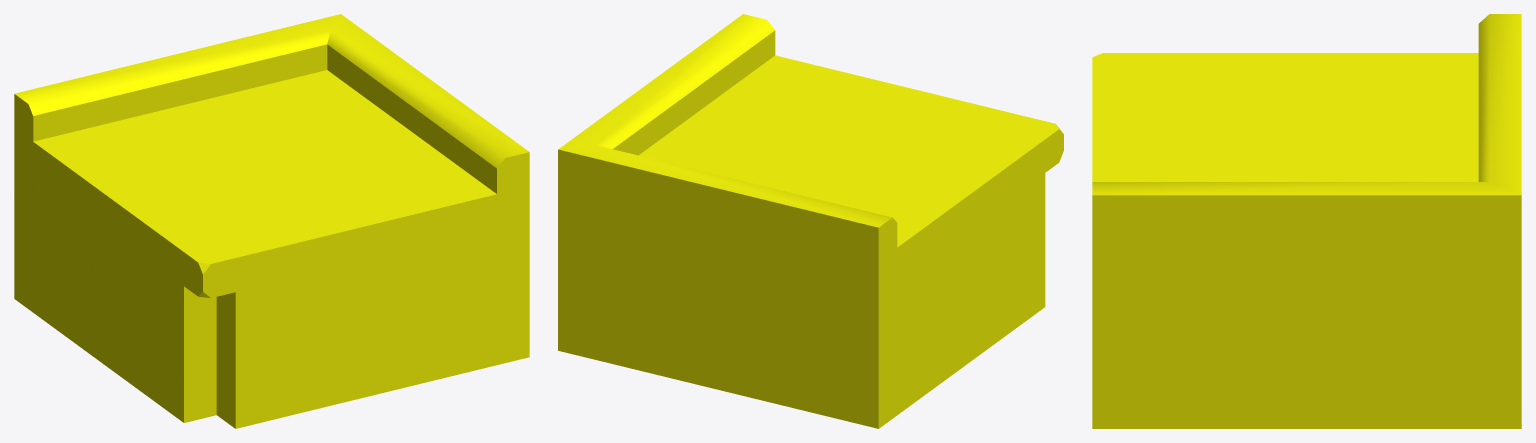
Rendered from kitchencounter_innercorner_backsplash.gltf.
3 renders of one model, left to right at view 1: azimuth 30°, elevation 25°; view 2: azimuth 150°, elevation 25°; view 3: azimuth 270°, elevation 25°, orthographic. The views are drawn at different scales.
Parts seen in each view (by area): view 1: kitchencounter_innercorner_backsplash; view 2: kitchencounter_innercorner_backsplash; view 3: kitchencounter_innercorner_backsplash.
Part boxes in pixels (x1,y1,x2,y2): kitchencounter_innercorner_backsplash: (14, 14, 529, 428); kitchencounter_innercorner_backsplash: (558, 14, 1063, 428); kitchencounter_innercorner_backsplash: (1092, 14, 1521, 428).
Size of the model in its own units: 2 by 1.2 by 2.
Materials: 1 (1 with a texture image).
